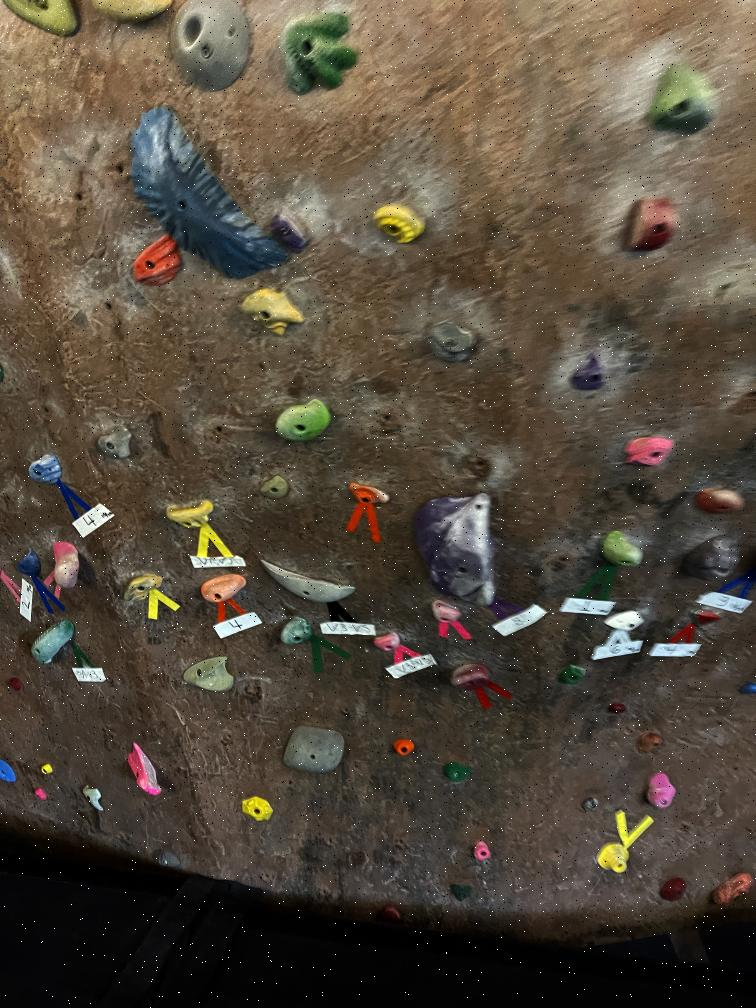Crimp: (423, 314, 480, 365), (624, 431, 676, 473), (267, 211, 316, 253), (571, 350, 609, 397), (603, 607, 646, 638), (258, 472, 296, 504), (683, 604, 722, 633), (440, 755, 473, 788), (561, 662, 587, 691)
Edges: (632, 58, 726, 154), (617, 196, 683, 258)
Foothold: (240, 794, 280, 827), (446, 879, 477, 905), (660, 877, 688, 902), (390, 736, 419, 760), (473, 840, 496, 866), (378, 902, 404, 925), (154, 848, 180, 871), (606, 696, 629, 718), (582, 796, 602, 812), (39, 761, 55, 778), (34, 786, 48, 804), (10, 676, 23, 694)
Hand-holds: (177, 653, 243, 696), (120, 563, 170, 608), (595, 841, 636, 880)
Jug: (276, 4, 364, 94), (260, 556, 357, 612), (272, 393, 340, 451), (132, 232, 179, 292), (165, 494, 221, 540), (28, 616, 77, 668), (373, 200, 426, 247), (599, 525, 648, 571), (96, 420, 140, 465), (692, 484, 749, 518), (347, 479, 393, 512), (277, 616, 318, 652), (449, 661, 494, 693), (645, 772, 677, 813), (28, 452, 63, 486), (369, 627, 405, 656), (16, 547, 42, 580), (78, 784, 107, 813), (429, 599, 462, 623), (637, 730, 666, 754)
Pinch: (122, 742, 167, 798), (710, 864, 756, 912), (198, 568, 248, 609), (734, 675, 756, 702)
Pocket: (159, 0, 259, 92)
Sloper: (108, 105, 295, 287), (409, 487, 507, 606), (674, 530, 747, 592), (238, 288, 308, 339), (282, 724, 345, 776), (50, 537, 87, 595)
